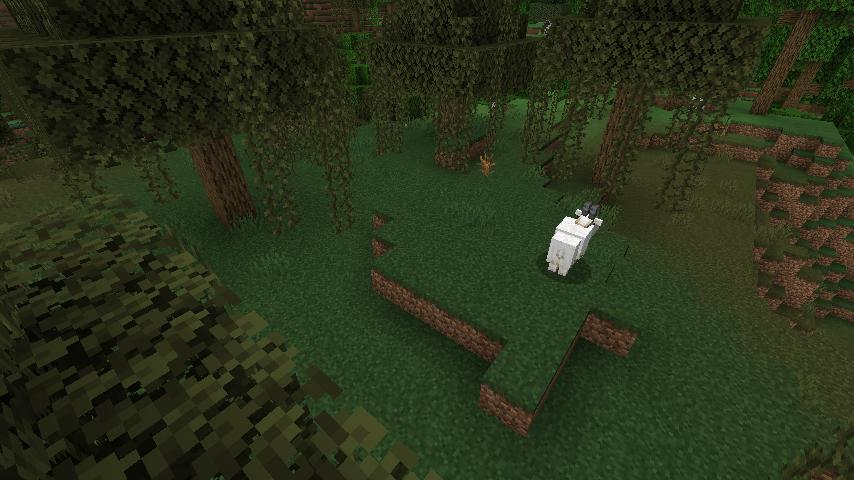goat: (544, 202, 606, 280)
